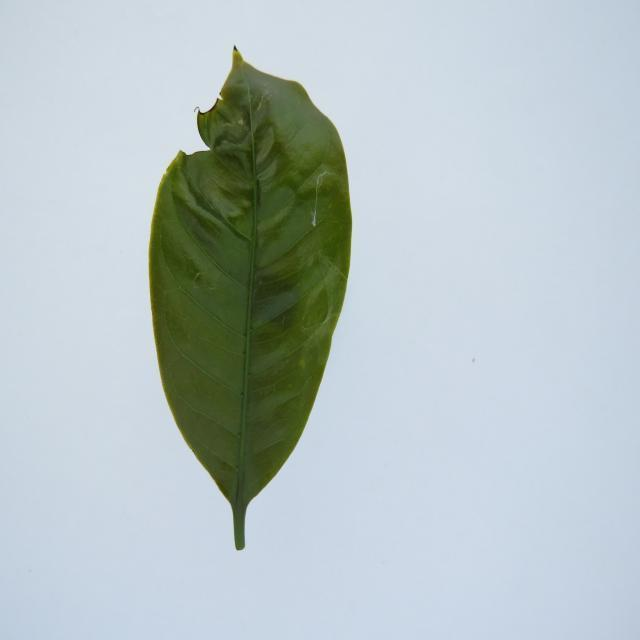DeficienciaNutricional-Calcio: (149, 50, 351, 550)
